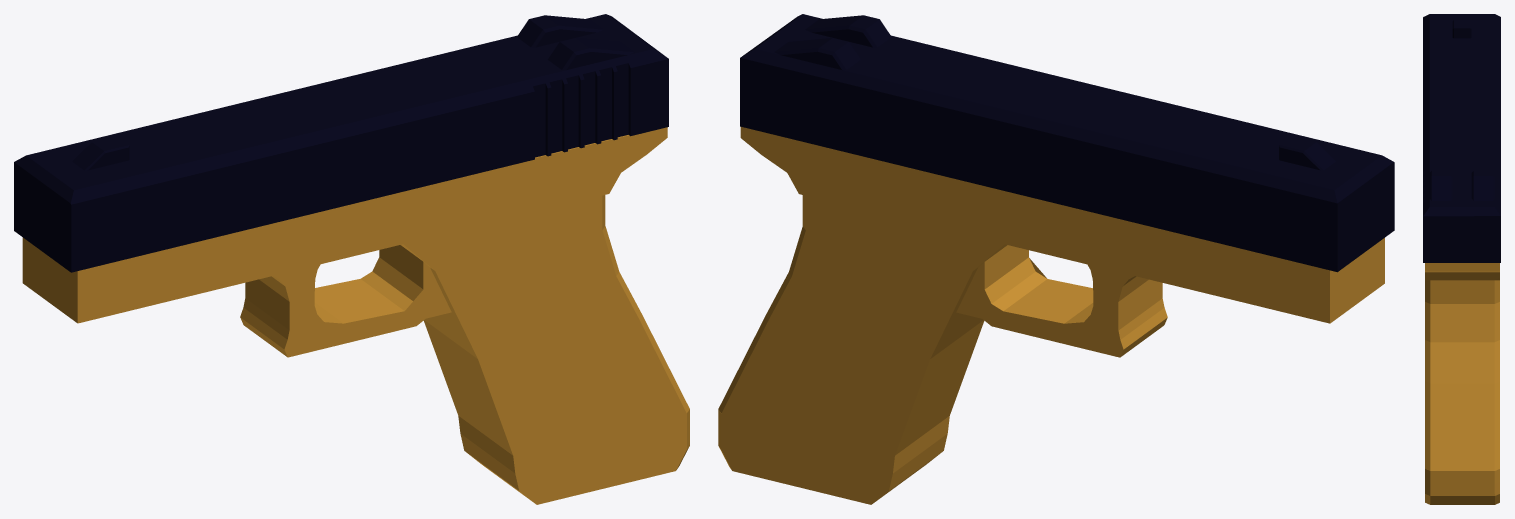
File: gun.glb
3 renders of one model, left to right at view 1: azimuth 30°, elevation 25°; view 2: azimuth 150°, elevation 25°; view 3: azimuth 270°, elevation 25°, orthographic. The views are drawn at different scales.
Parts seen in each view (by area): view 1: Cube.001, Cube; view 2: Cube.001, Cube; view 3: Cube, Cube.001.
Part boxes in pixels (bbox=[...]): Cube.001: bbox=[22, 127, 689, 504]; Cube: bbox=[14, 14, 668, 272]; Cube.001: bbox=[718, 127, 1384, 504]; Cube: bbox=[740, 14, 1394, 272]; Cube: bbox=[1423, 14, 1500, 262]; Cube.001: bbox=[1425, 263, 1499, 504].
Size of the model in its own units: 4.39 by 2.95 by 0.6962.
